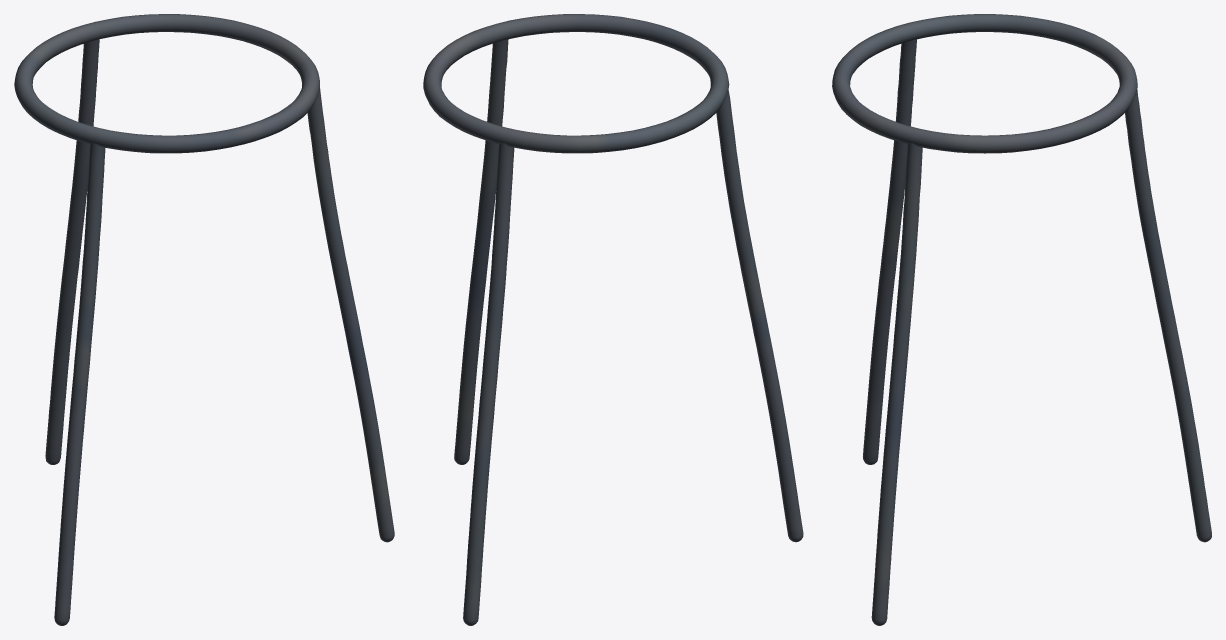
The model's file is tripod.glb.
3 renders of one model, left to right at view 1: azimuth 30°, elevation 25°; view 2: azimuth 150°, elevation 25°; view 3: azimuth 270°, elevation 25°, orthographic.
Parts seen in each view (by area): view 1: tripod-frame; view 2: tripod-frame; view 3: tripod-frame.
Part boxes in pixels (x1,y1,x2,y2): tripod-frame: (14, 14, 394, 625); tripod-frame: (423, 14, 803, 625); tripod-frame: (832, 14, 1211, 625).
Size of what is drawn, in the model's own units: 15.14 by 19.74 by 14.52.
